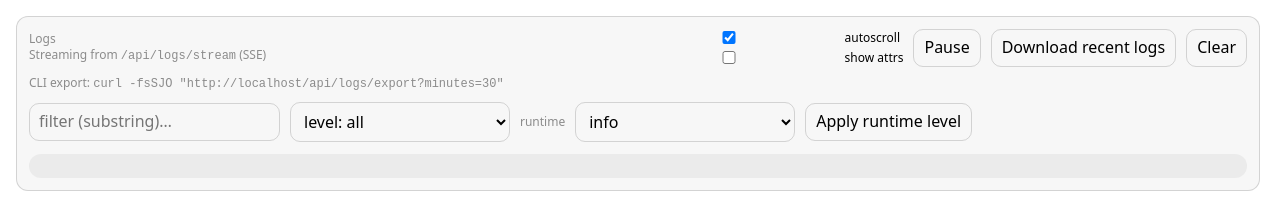
Scenario: LogsPanel › updates the runtime log level through the admin API
The image size is (1277, 208).
Select "debug" in the dropdown named "Runtime log level" at (685,122), box [575, 102, 795, 142]
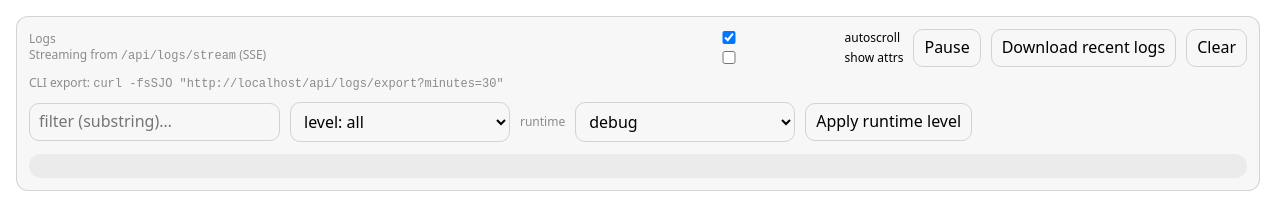
Click the button "Apply runtime level" at (889,122), box [805, 103, 972, 141]
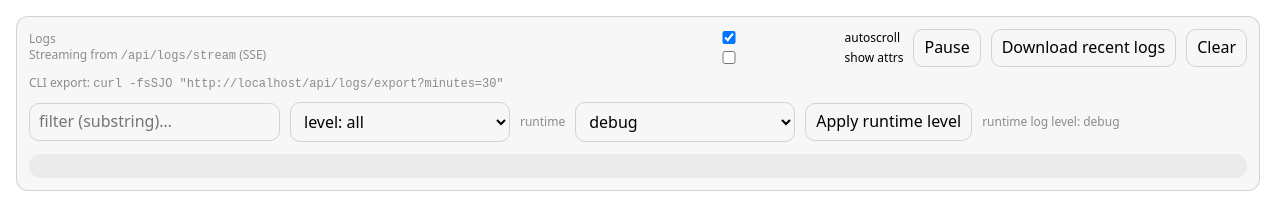
Check: the text "runtime log level: debug" is shown, box [982, 114, 1120, 130]
